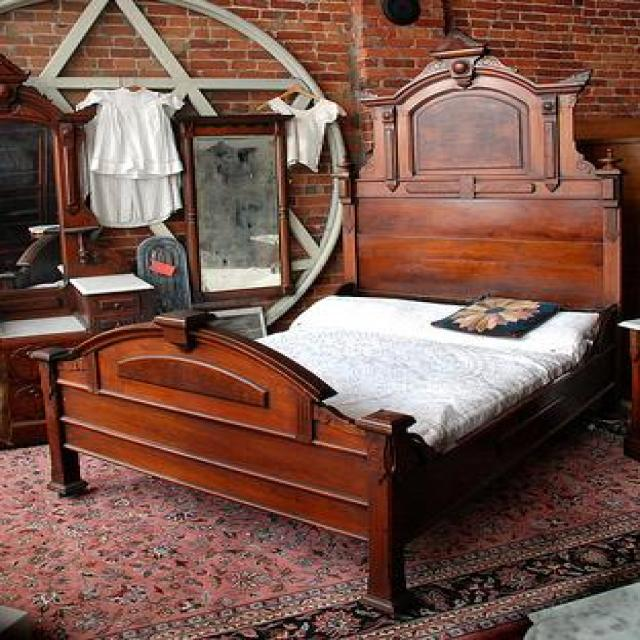bed: (30, 237, 640, 618)
